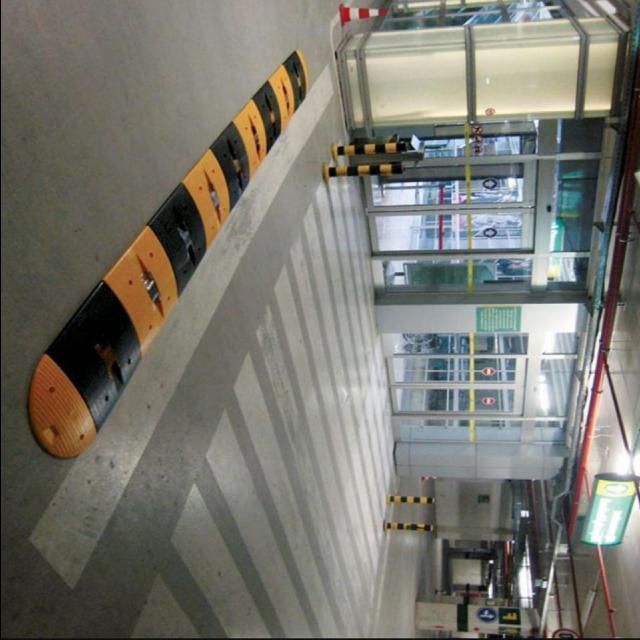Speed_Breaker: (23, 51, 315, 460), (28, 46, 312, 453)
